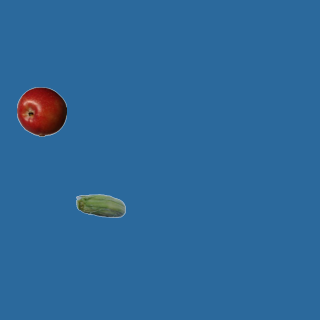Apple Braeburn: (16, 86, 66, 136)
Corn Husk: (75, 182, 125, 232)
